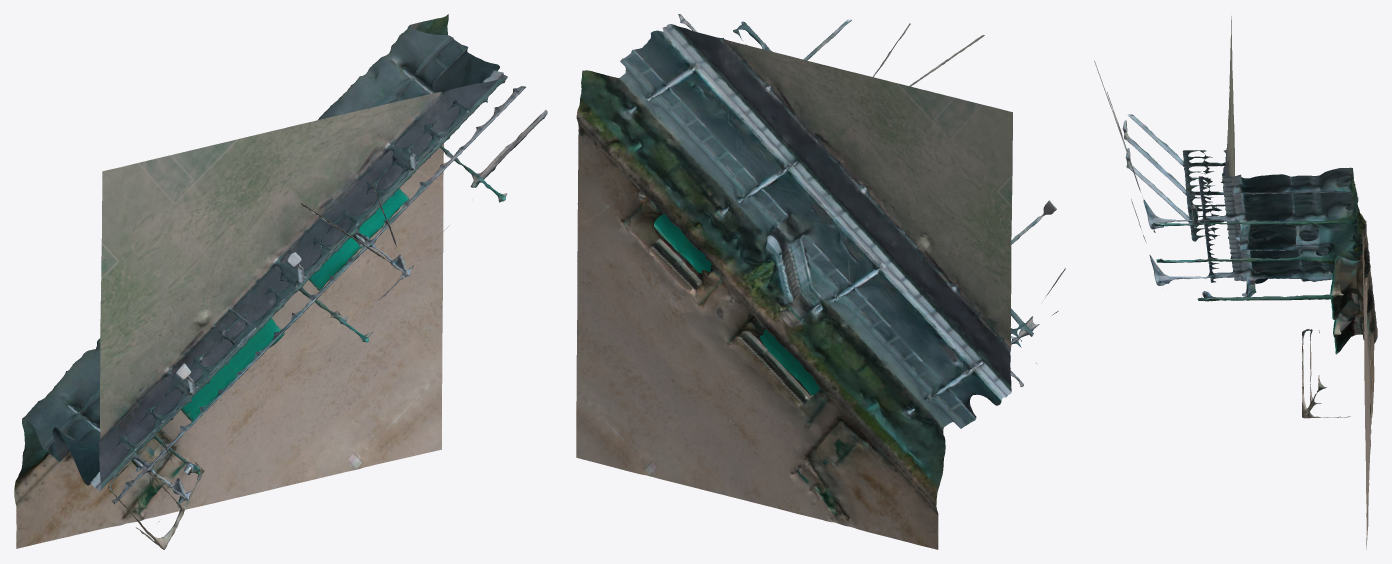
Rendered from Tile_+019_+016.fbx.
The picture shows the model from 3 angles, left to right: view 1: azimuth 30°, elevation 25°; view 2: azimuth 150°, elevation 25°; view 3: azimuth 270°, elevation 25°; orthographic projection. The views are drawn at different scales.
Parts seen in each view (by area): view 1: DefaultName; view 2: DefaultName; view 3: DefaultName.
Part boxes in pixels (x1,y1,x2,y2): DefaultName: (14,14,547,549); DefaultName: (576,14,1065,549); DefaultName: (1094,16,1377,549).
Bounding box in the file's own units: 22.54 × 22.54 × 15.84.
